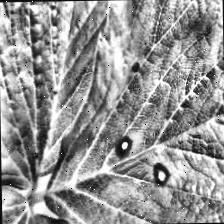Leaf Spot: (38, 0, 224, 224), (0, 0, 140, 198)
